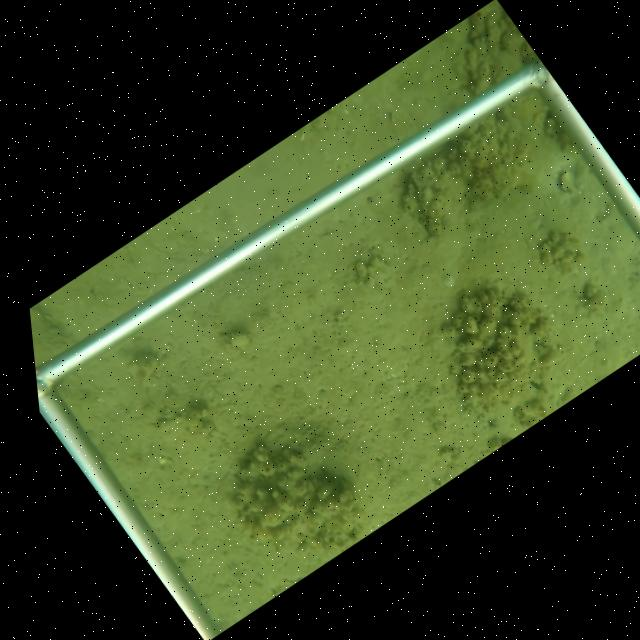Oyster-Closed: (408, 168, 437, 235), (556, 170, 578, 193)
